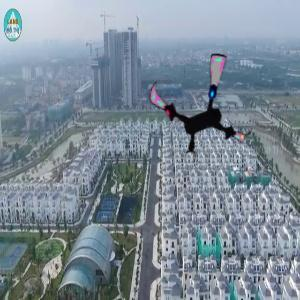drone: (147, 49, 261, 163)
